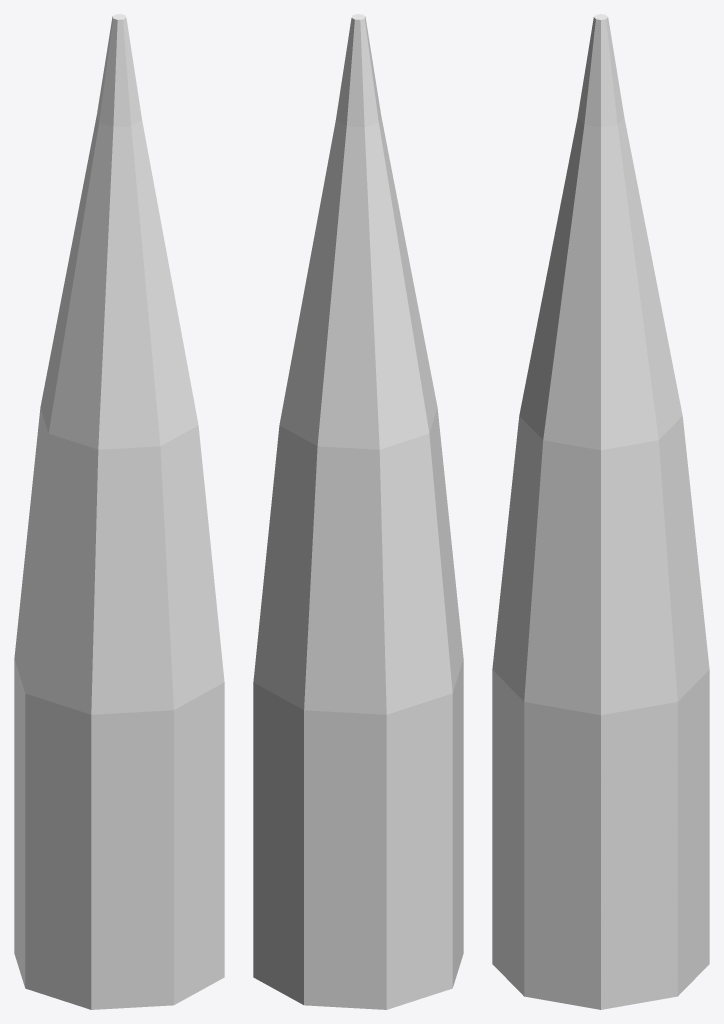
Rendered from arm.fbx.
The picture shows the model from 3 angles, left to right: view 1: azimuth 30°, elevation 25°; view 2: azimuth 150°, elevation 25°; view 3: azimuth 270°, elevation 25°; orthographic projection.
Visible parts, largest first — view 1: arm:arm; view 2: arm:arm; view 3: arm:arm.
Part boxes in pixels (left/top/right/bottom): arm:arm: left=14, top=14, right=224, bottom=1009; arm:arm: left=253, top=14, right=463, bottom=1009; arm:arm: left=492, top=14, right=709, bottom=1009.
Bounding box in the file's own units: 2 × 9.62 × 2.
Materials: 1 (1 with a texture image).
